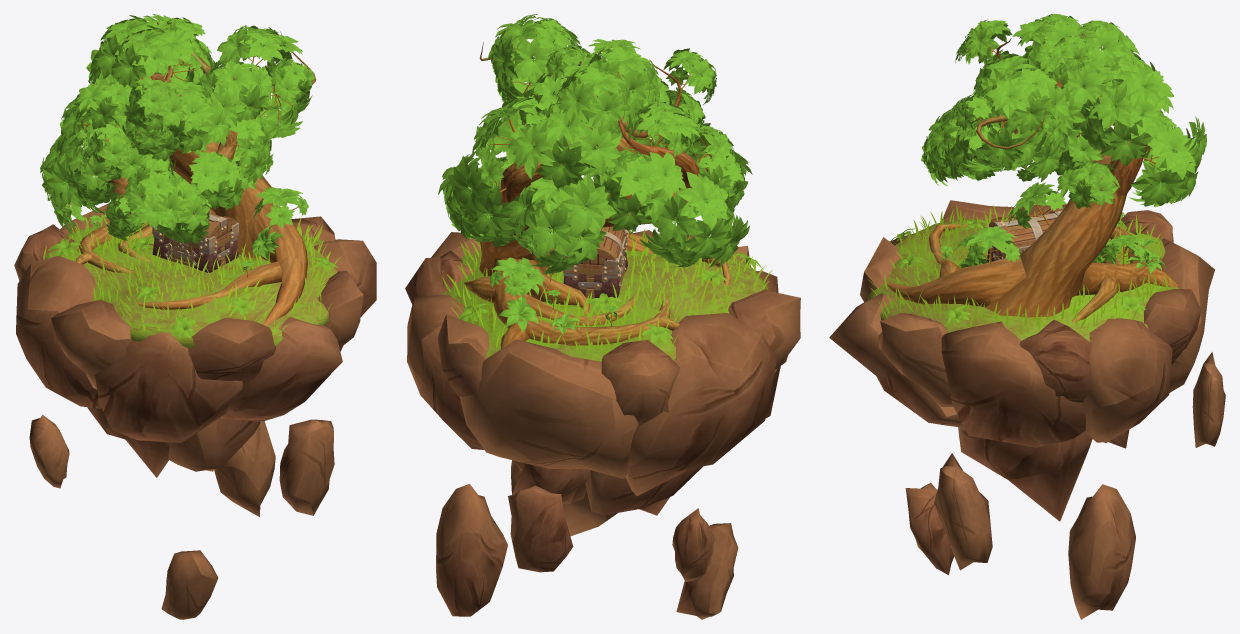
The model's file is island-low.glb.
3 renders of one model, left to right at view 1: azimuth 30°, elevation 25°; view 2: azimuth 150°, elevation 25°; view 3: azimuth 270°, elevation 25°, orthographic. The views are drawn at different scales.
Visible parts, largest first — view 1: Leaf_01_LP, Rock_02_LP, Rock_01_LP, Ground, Tree_01_LP, Grass_01, Plant_01_LP, Cloth_01_LP; view 2: Leaf_01_LP, Rock_01_LP, Rock_02_LP, Tree_01_LP, Ground, Grass_01, Plant_01_LP, Cloth_01_LP, Sticks_01; view 3: Leaf_01_LP, Rock_01_LP, Rock_02_LP, Tree_01_LP, Ground, Grass_01, Plant_01_LP, Top_05_LP.
Boxes of the visible parts, x1=… form: Leaf_01_LP: x1=40, y1=14, x2=314, y2=272; Rock_02_LP: x1=51, y1=271, x2=363, y2=619; Rock_01_LP: x1=14, y1=203, x2=376, y2=516; Ground: x1=42, y1=224, x2=337, y2=348; Tree_01_LP: x1=75, y1=22, x2=316, y2=325; Grass_01: x1=43, y1=213, x2=340, y2=332; Plant_01_LP: x1=48, y1=237, x2=337, y2=338; Cloth_01_LP: x1=152, y1=237, x2=238, y2=272; Leaf_01_LP: x1=438, y1=14, x2=752, y2=334; Rock_01_LP: x1=405, y1=232, x2=780, y2=616; Rock_02_LP: x1=437, y1=230, x2=800, y2=619; Tree_01_LP: x1=464, y1=42, x2=730, y2=348; Ground: x1=441, y1=244, x2=768, y2=361; Grass_01: x1=442, y1=228, x2=772, y2=355; Plant_01_LP: x1=458, y1=251, x2=761, y2=343; Cloth_01_LP: x1=563, y1=249, x2=627, y2=297; Sticks_01: x1=489, y1=39, x2=726, y2=327; Leaf_01_LP: x1=921, y1=14, x2=1206, y2=274; Rock_01_LP: x1=889, y1=204, x2=1214, y2=619; Rock_02_LP: x1=829, y1=200, x2=1225, y2=575; Tree_01_LP: x1=883, y1=33, x2=1177, y2=323; Ground: x1=868, y1=218, x2=1178, y2=341; Grass_01: x1=867, y1=204, x2=1172, y2=333; Plant_01_LP: x1=890, y1=215, x2=1145, y2=324; Top_05_LP: x1=1003, y1=213, x2=1055, y2=247.
Bounding box in the file's own units: 4.43 × 7.11 × 4.55.
7 materials, 7 textured.
